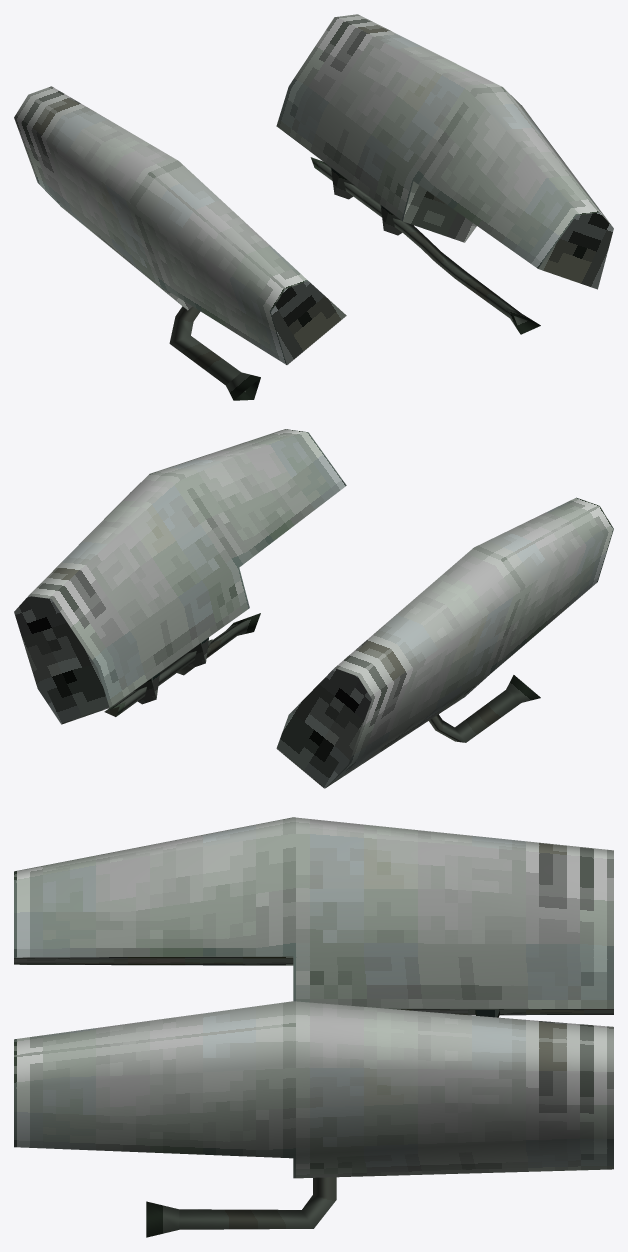
Rendered from black_sun_fighter_light_booster_s02_l2.fbx.
3 renders of one model, top to bottom at view 1: azimuth 30°, elevation 25°; view 2: azimuth 150°, elevation 25°; view 3: azimuth 270°, elevation 25°, orthographic. The views are drawn at different scales.
Parts seen in each view (by area): view 1: mesh_node; view 2: mesh_node; view 3: mesh_node.
Boxes of the visible parts, bbox=[...] form: mesh_node: bbox=[14, 14, 613, 400]; mesh_node: bbox=[14, 429, 613, 788]; mesh_node: bbox=[14, 817, 613, 1237].
Size of the model in its own units: 5.36 by 2.59 by 5.91.
